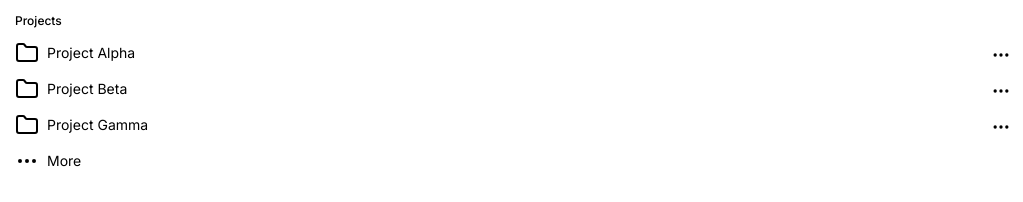
Scenario: NavProjects › Mobile Responsiveness › positions dropdown at bottom on mobile
What coordinates should you click on to do the following:
click the button without text in the row of "Project Alpha"
I would click on:
 (1001, 55)
Its box is [991,43,1011,67].
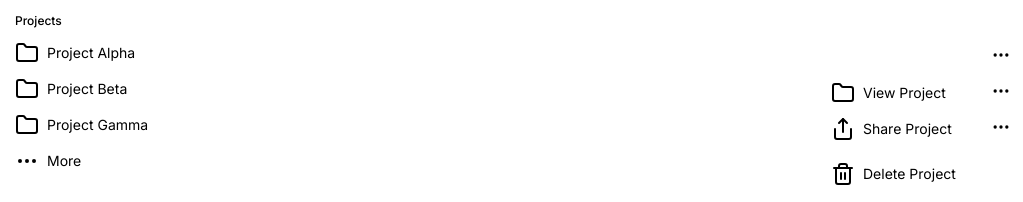
Check: the text "View Project" is shown, box [863,83,946,103]
